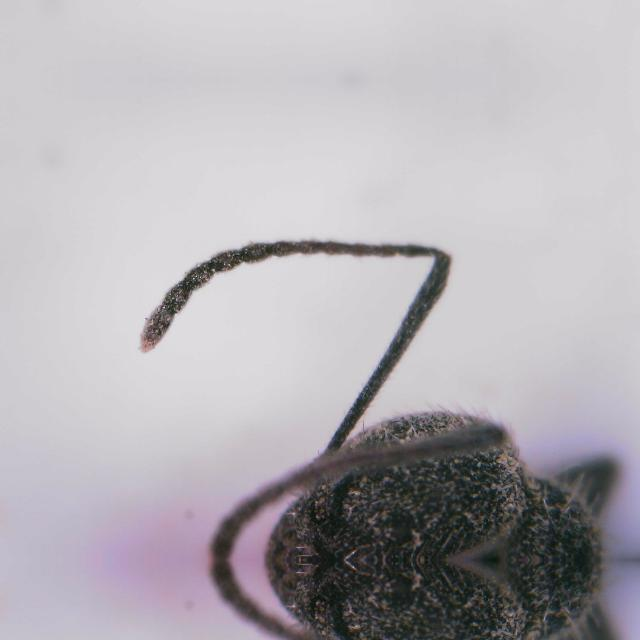Apheanogaster: (109, 213, 639, 559), (109, 560, 639, 640)
